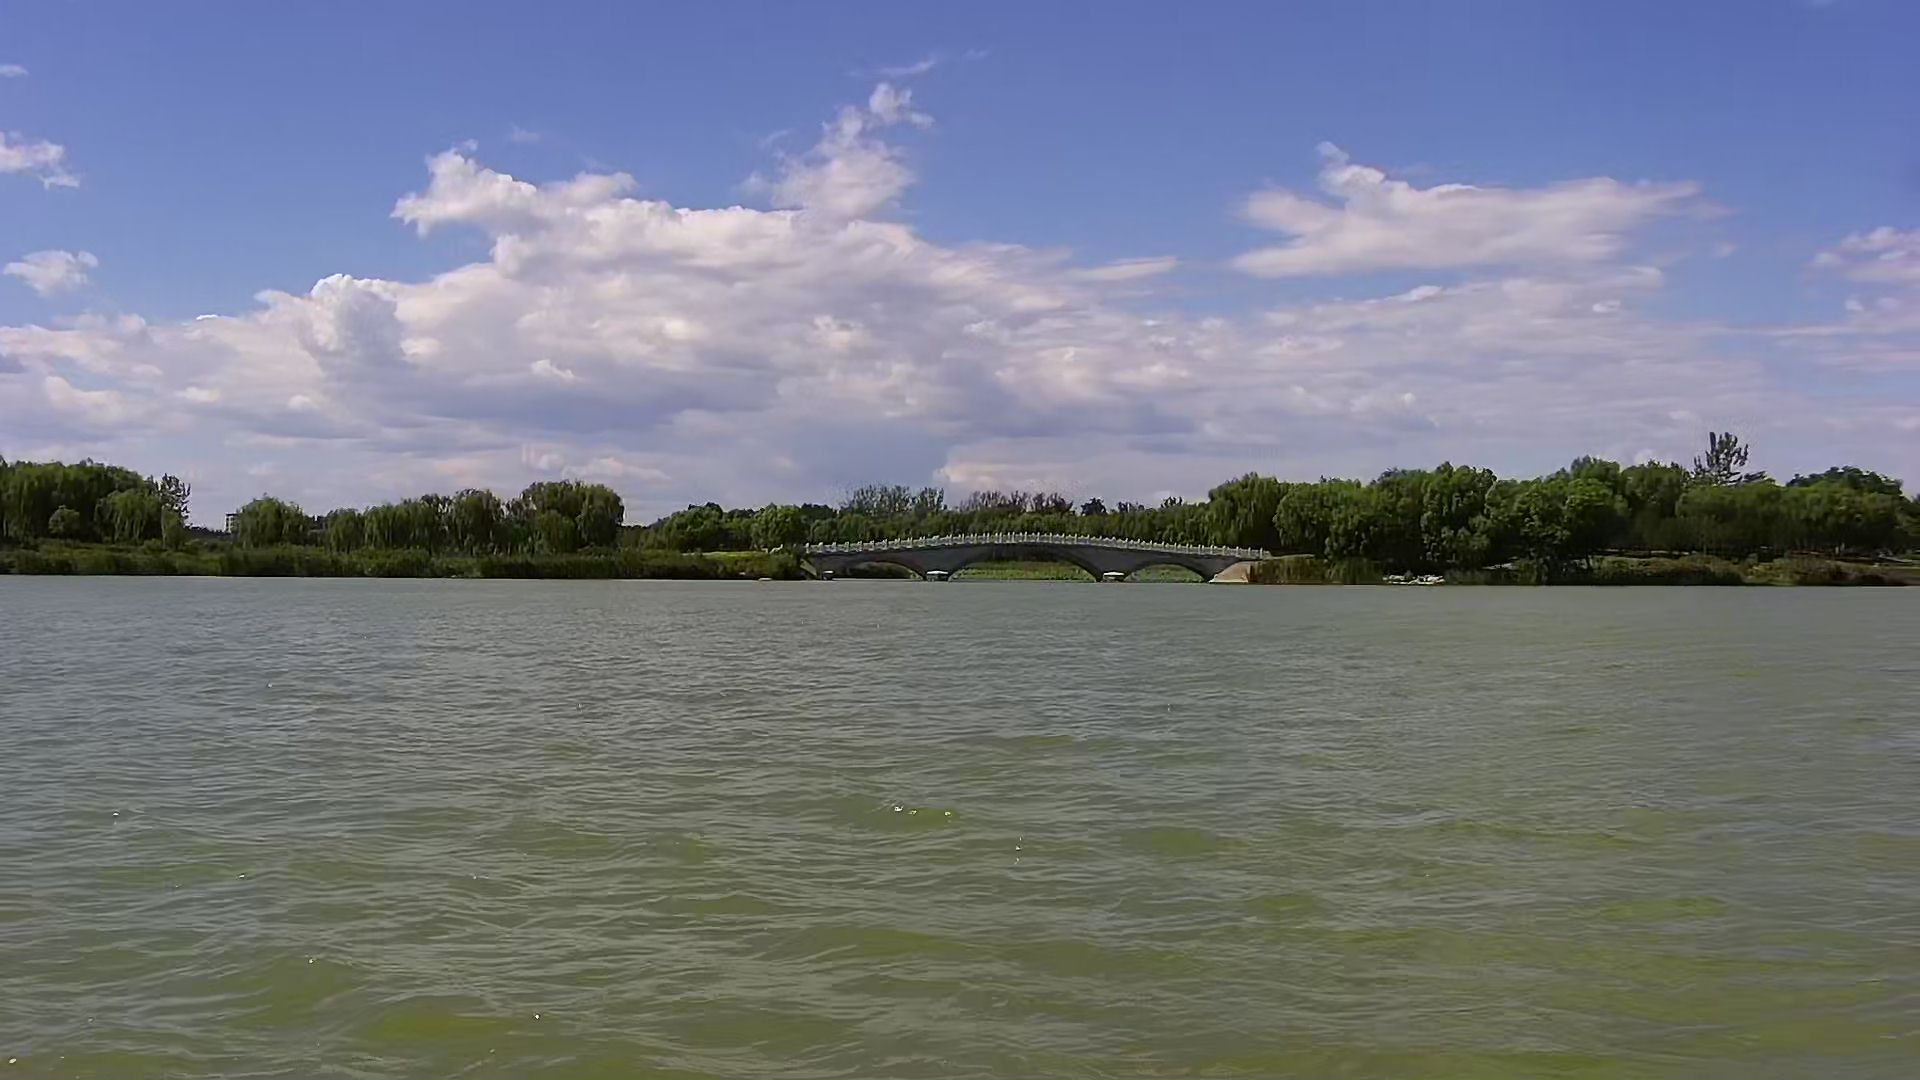bridge: (796, 527, 1265, 580)
